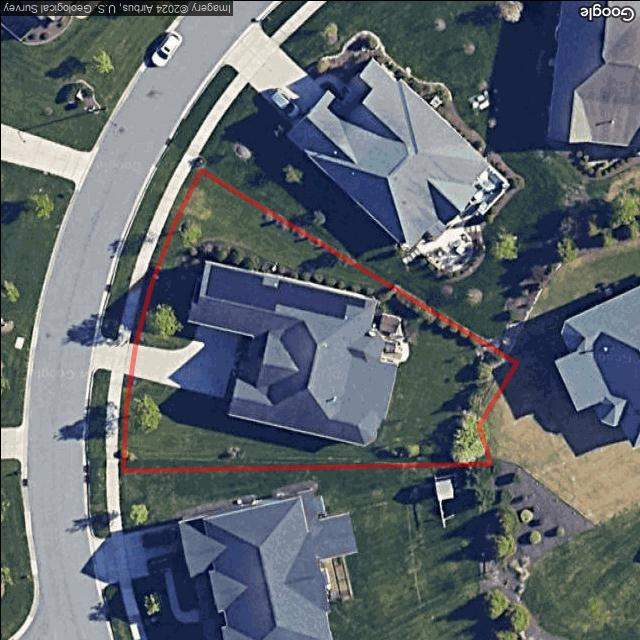Driveway: (130, 326, 244, 398)
Extra-Driveway: (93, 335, 133, 373)
Extra-Lawn: (99, 146, 181, 338), (128, 164, 202, 343), (85, 366, 111, 471), (117, 372, 132, 470)
Extra-Sidewalk: (116, 157, 191, 342), (104, 371, 124, 471)
House: (188, 258, 397, 446)
Lawn: (123, 171, 517, 468)
Other: (180, 241, 379, 295), (369, 312, 410, 365)
